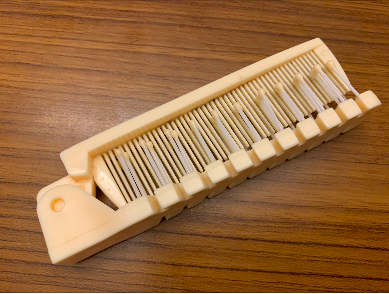object_name: (58, 49, 327, 239)
